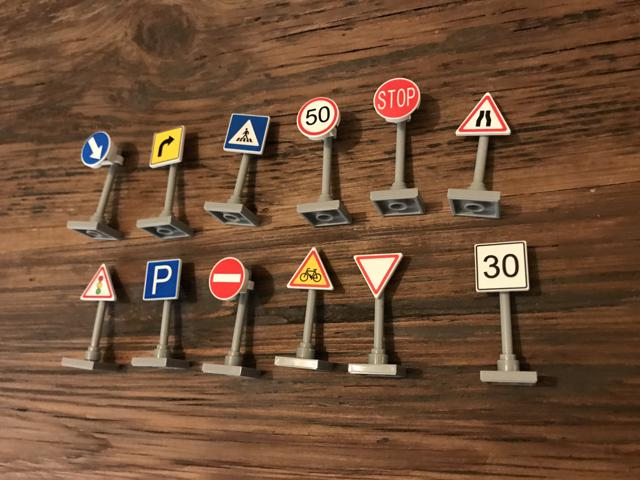fahrtrichtung rechts: (148, 122, 187, 169)
fußgängerüberweg: (221, 112, 272, 157)
lichtzeichenanlage: (81, 264, 118, 303)
parken: (141, 257, 183, 302)
radfahrer: (286, 246, 335, 292)
rechts halten: (81, 131, 112, 166)
stop: (373, 75, 421, 124)
tempolimit 30: (475, 240, 531, 296)
tempolimit 50: (296, 94, 341, 140)
verbot der einfahrt: (206, 254, 247, 303)
verengte fahrbahn: (454, 93, 511, 139)
vorfahrt gewähren: (354, 250, 403, 298)
